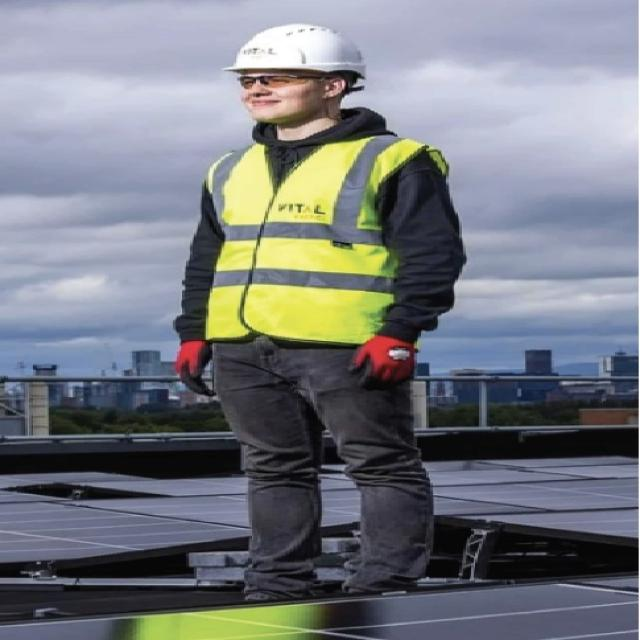gloves: (341, 334, 439, 389), (154, 333, 233, 400)
goggles: (212, 73, 348, 99)
helmet: (206, 23, 391, 72)
person: (129, 16, 509, 616)
vest: (178, 132, 407, 338)
